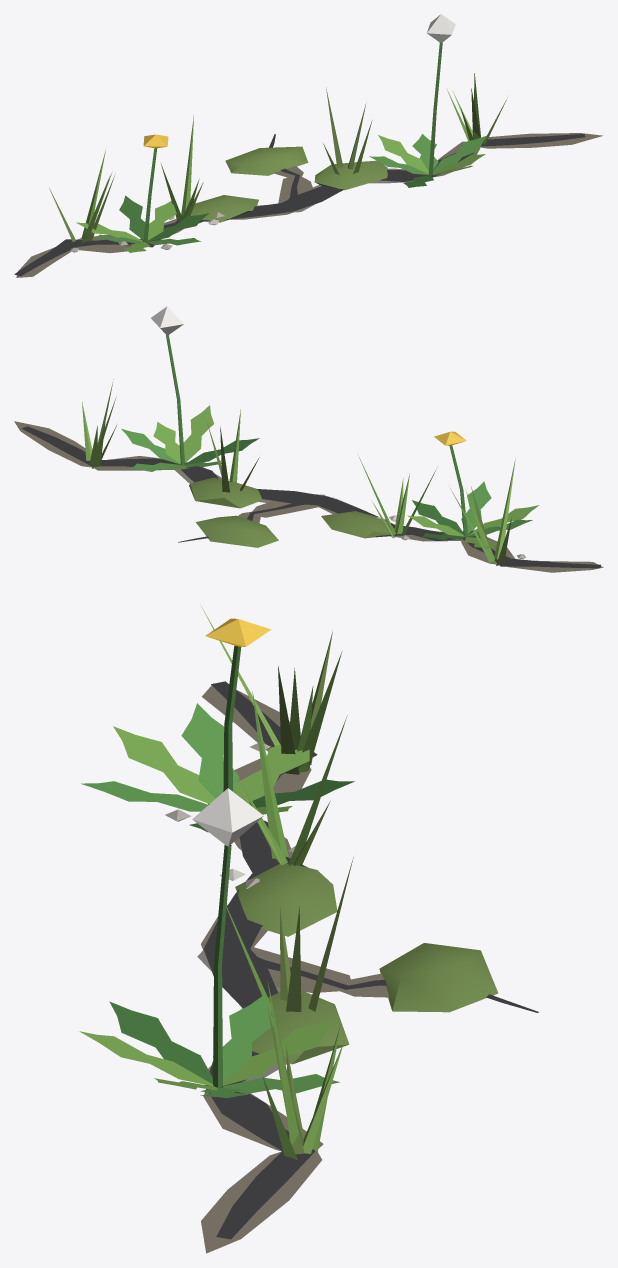
The model's file is SC_Nat_Weeds_Crack.gltf.
The picture shows the model from 3 angles, top to bottom: view 1: azimuth 30°, elevation 25°; view 2: azimuth 150°, elevation 25°; view 3: azimuth 270°, elevation 25°; orthographic projection. The views are drawn at different scales.
Parts seen in each view (by area): view 1: SC_Nat_Weeds_Crack; view 2: SC_Nat_Weeds_Crack; view 3: SC_Nat_Weeds_Crack.
Part boxes in pixels (left/top/right/bottom): SC_Nat_Weeds_Crack: left=14, top=14, right=603, bottom=277; SC_Nat_Weeds_Crack: left=14, top=306, right=603, bottom=572; SC_Nat_Weeds_Crack: left=79, top=604, right=538, bottom=1253.
Bounding box in the file's own units: 1.35 × 0.3454 × 0.4583.
1 material, 1 textured.
